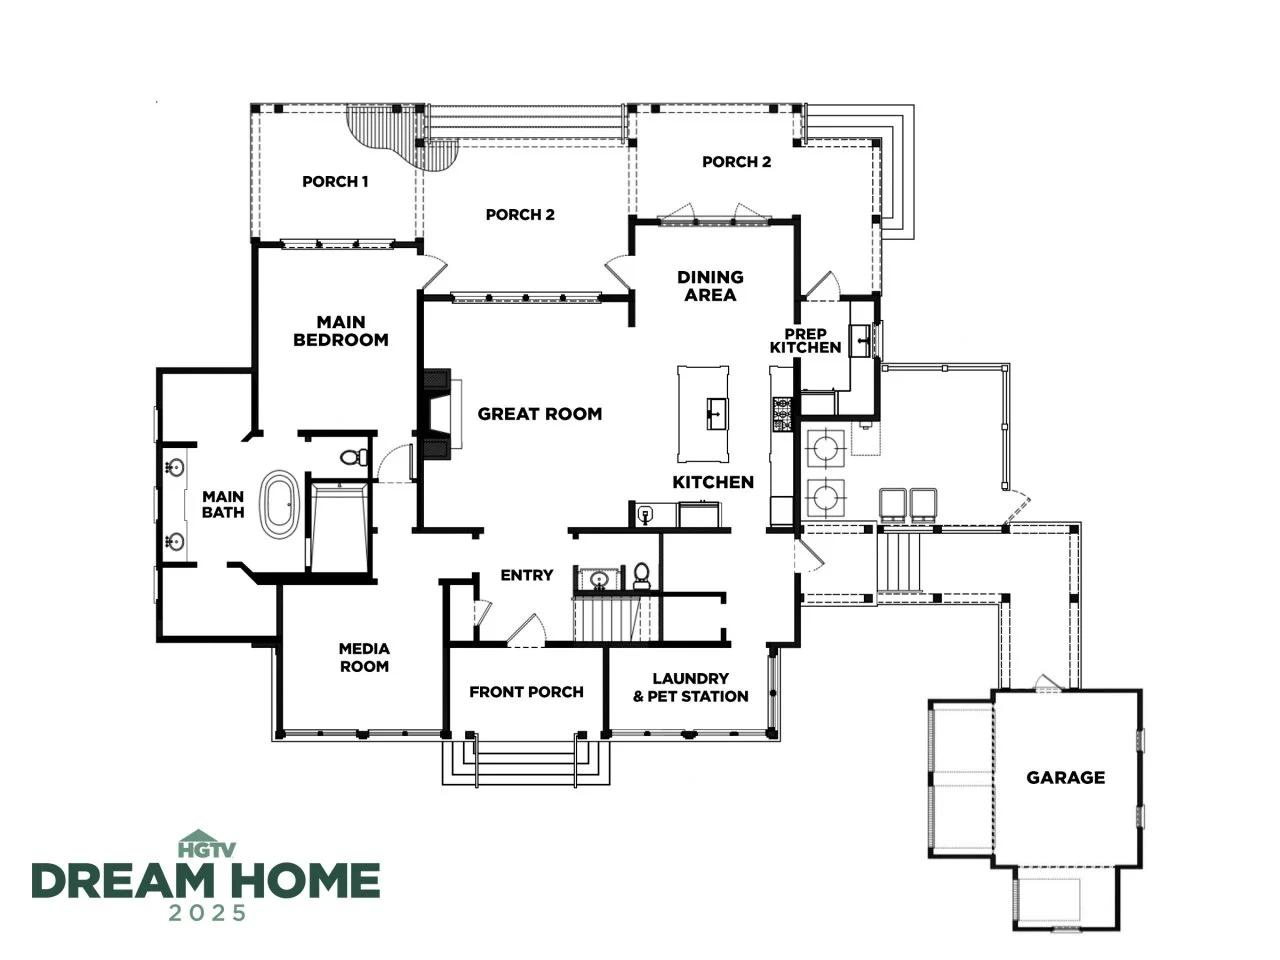room: (419, 223, 798, 529), (255, 244, 420, 432), (157, 369, 254, 645), (994, 692, 1144, 866), (281, 579, 446, 733), (256, 433, 371, 577), (607, 644, 777, 732), (449, 644, 607, 735), (797, 296, 880, 418)
